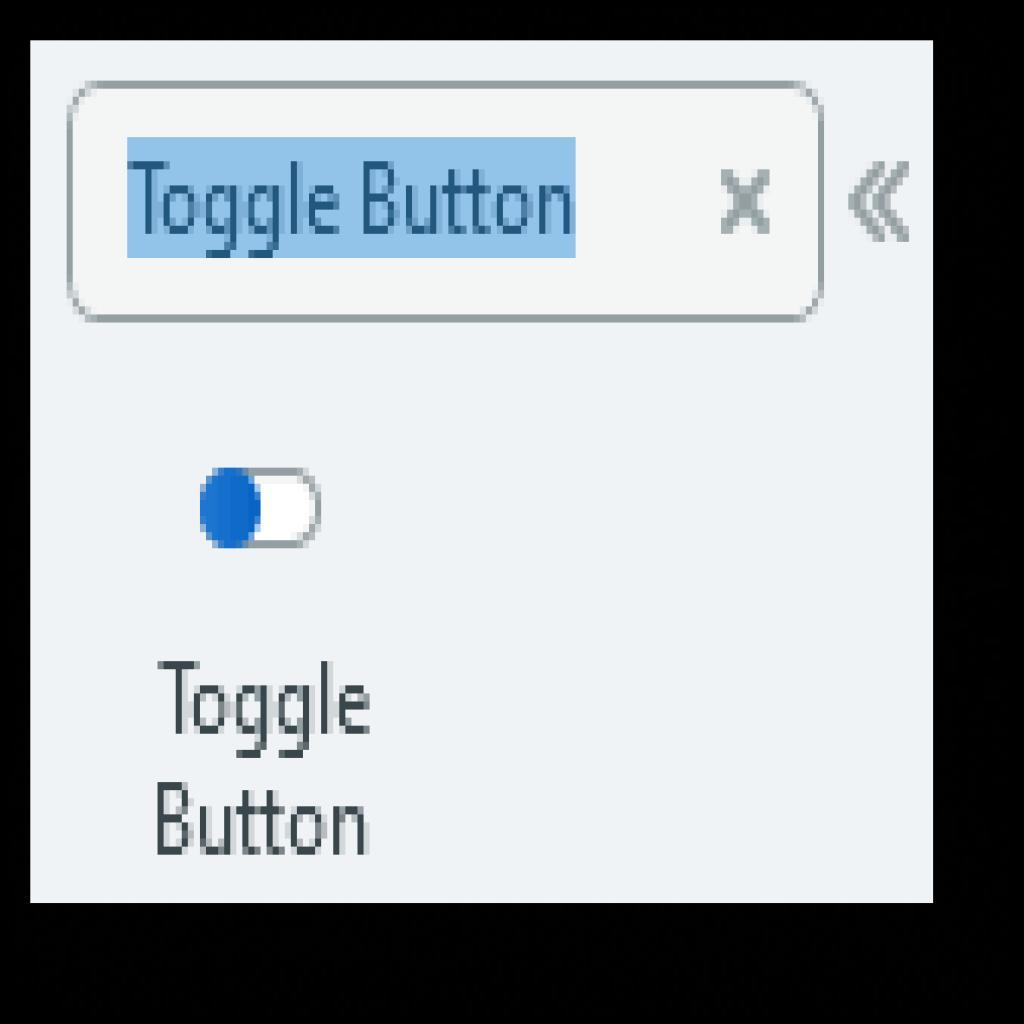button: (70, 81, 826, 323)
label: (140, 644, 380, 868)
switch: (200, 466, 322, 547)
